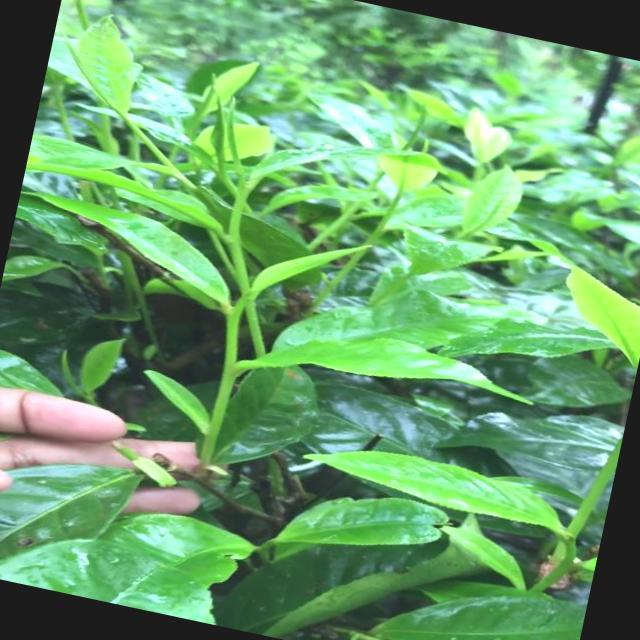Stem: (237, 185, 252, 200), (227, 309, 239, 326), (217, 171, 229, 183)
